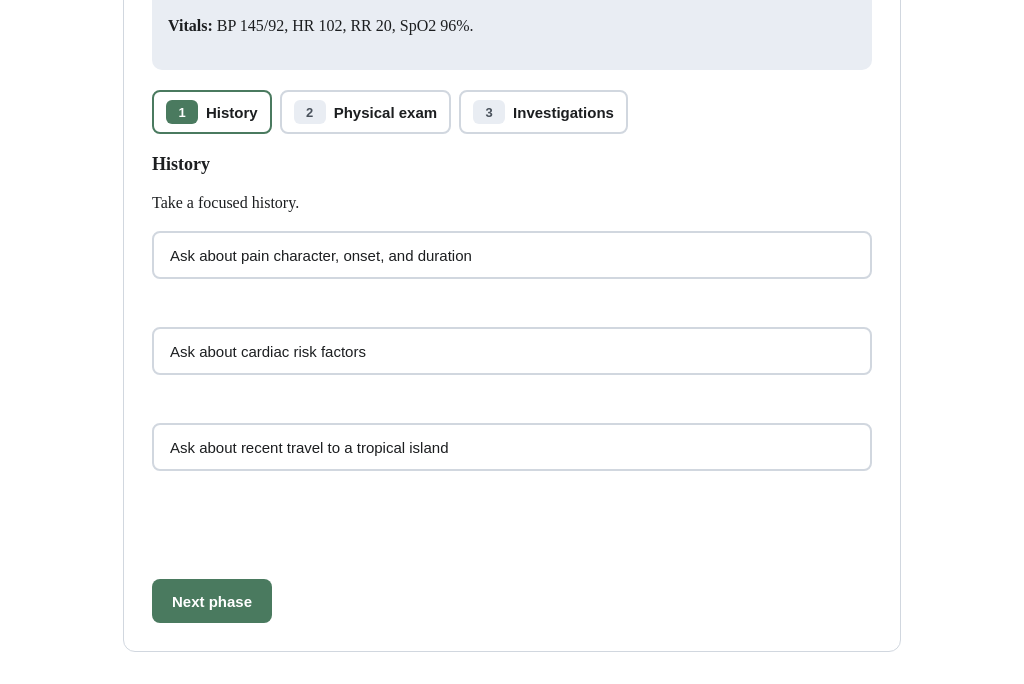
OSCE › retry is governed by scoring.enableRetry, not the legacy behaviour flag
The image size is (1024, 684).
(page scrolled)
Click the button "Next phase" at (212, 601), box [152,579,272,623]
(page scrolled)
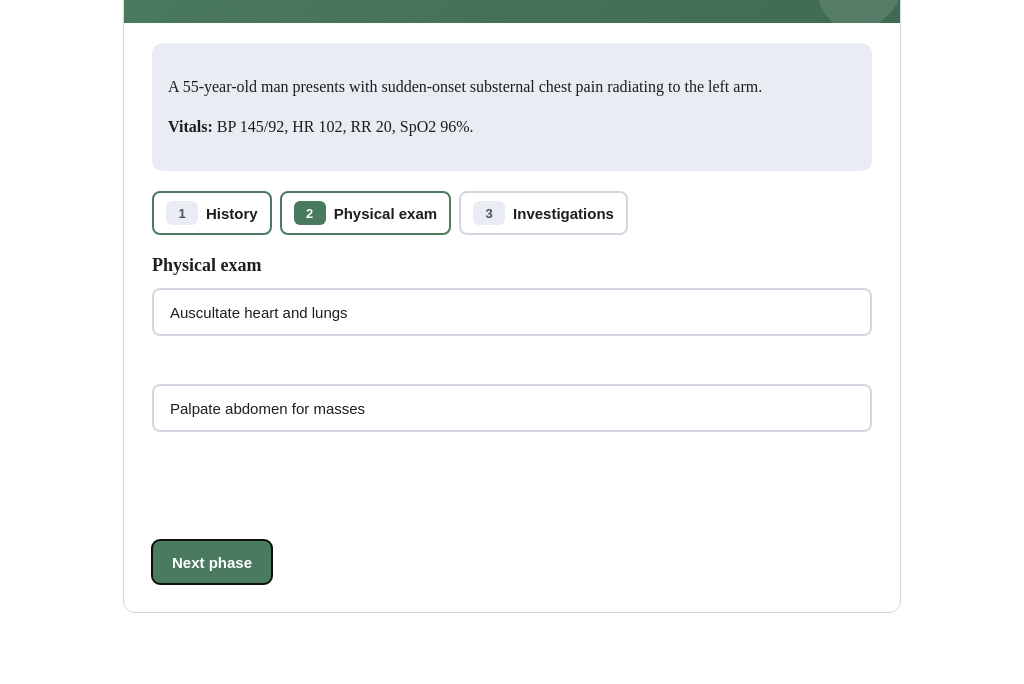
Click the button "Next phase" at (212, 562), box [152,540,272,584]
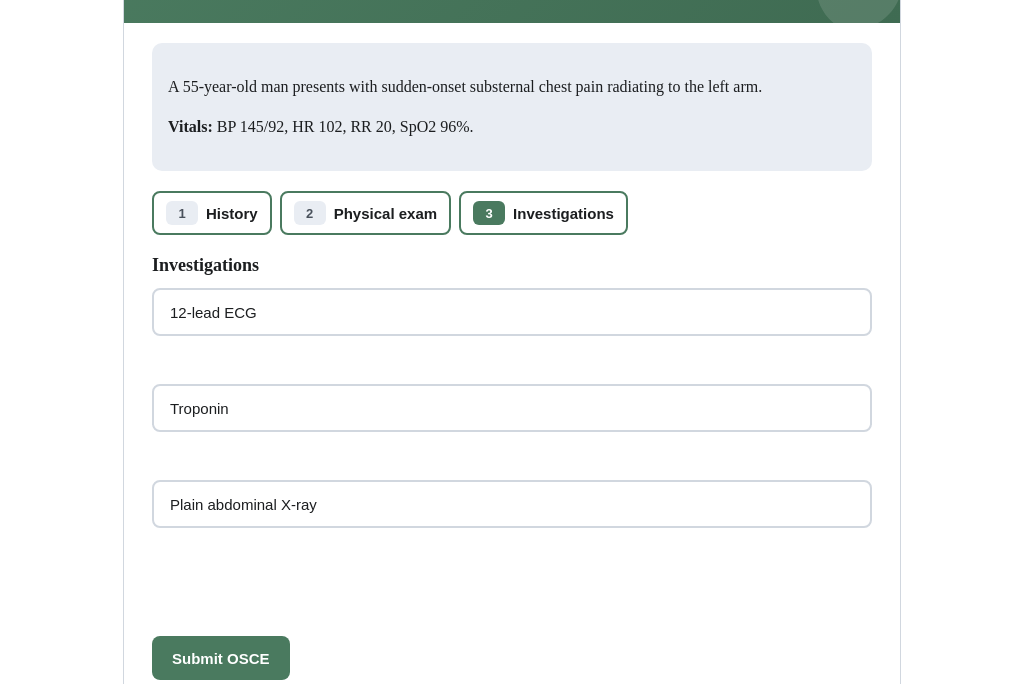
Click the button "Submit OSCE" at (221, 658), box [152,636,290,680]
(page scrolled)
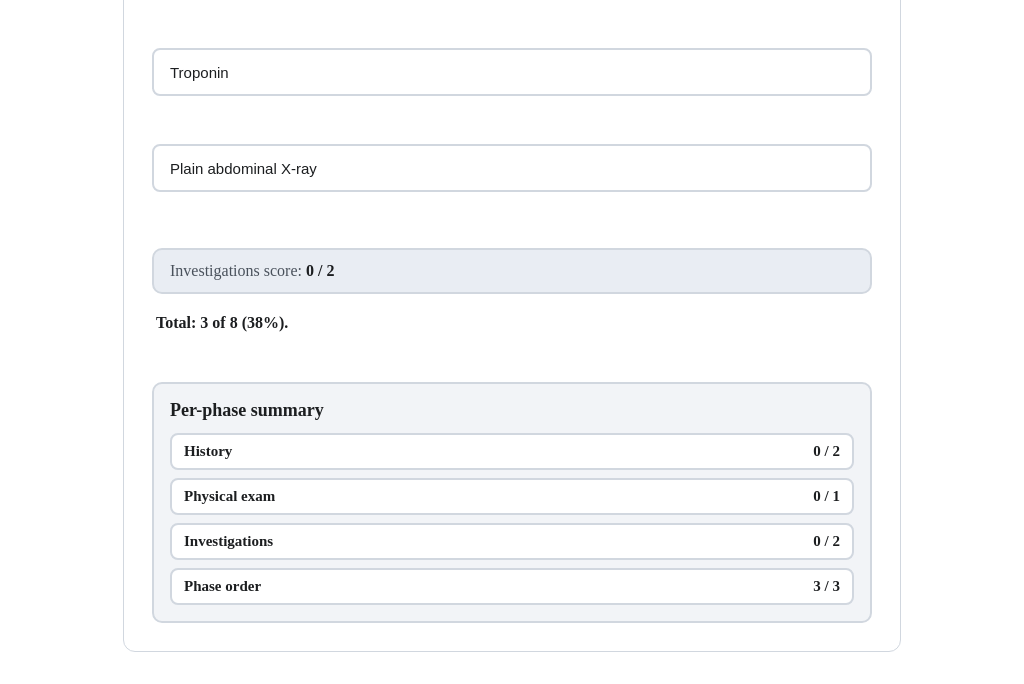
Check: the heading "Per-phase summary" is shown, box [170,400,324,420]
